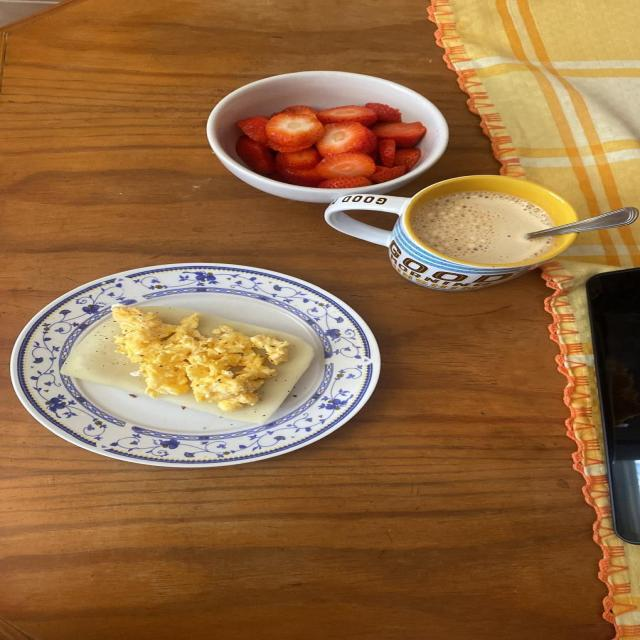cheese: (159, 313, 314, 422), (62, 315, 149, 399), (152, 308, 197, 324)
coffee cup: (326, 175, 639, 291)
plate: (10, 263, 380, 467)
scrambled eggs: (112, 307, 288, 412)
strawberry: (235, 104, 425, 189)
